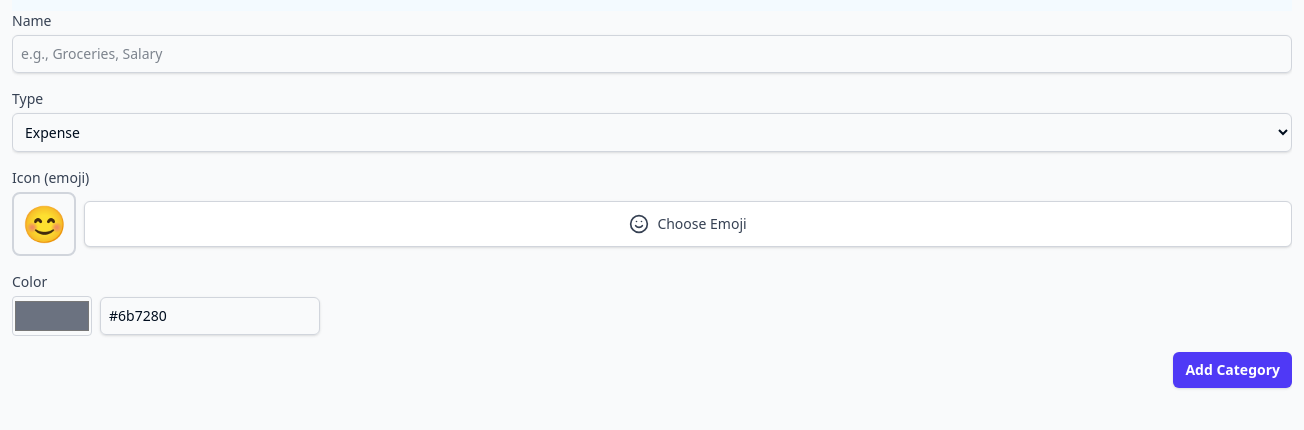
Test case: CategoryForm › validates required fields
This screenshot has width=1304, height=430.
Click the button "Add Category": (1233, 370) x1=1173 y1=352 x2=1292 y2=388
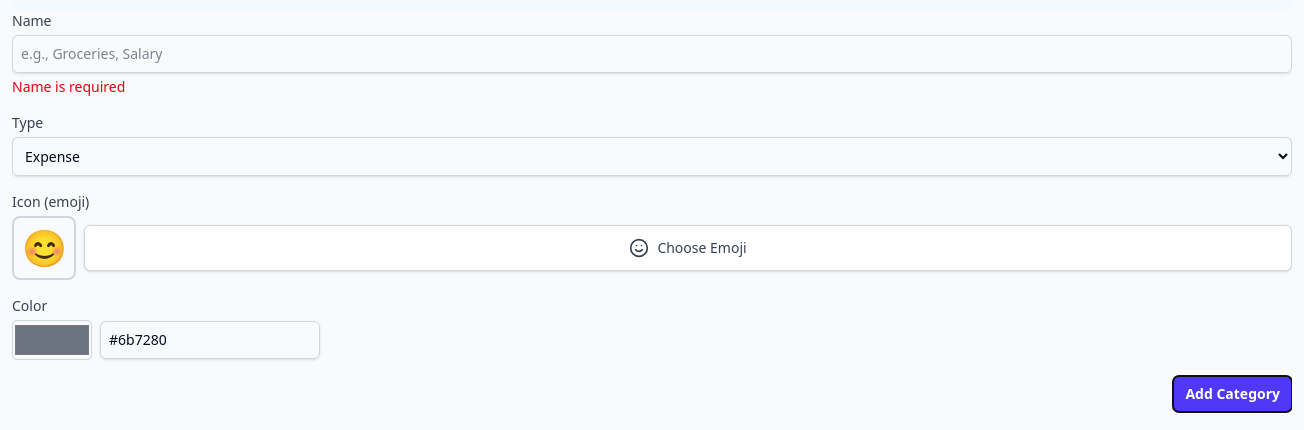
expect the text "Name is required" is shown: met, box x1=12 y1=77 x2=125 y2=96
